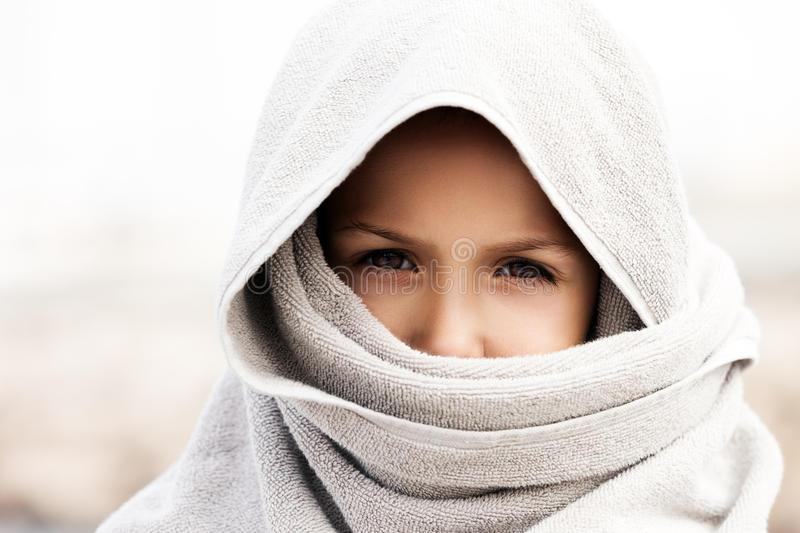No Mask: (222, 26, 766, 496)
